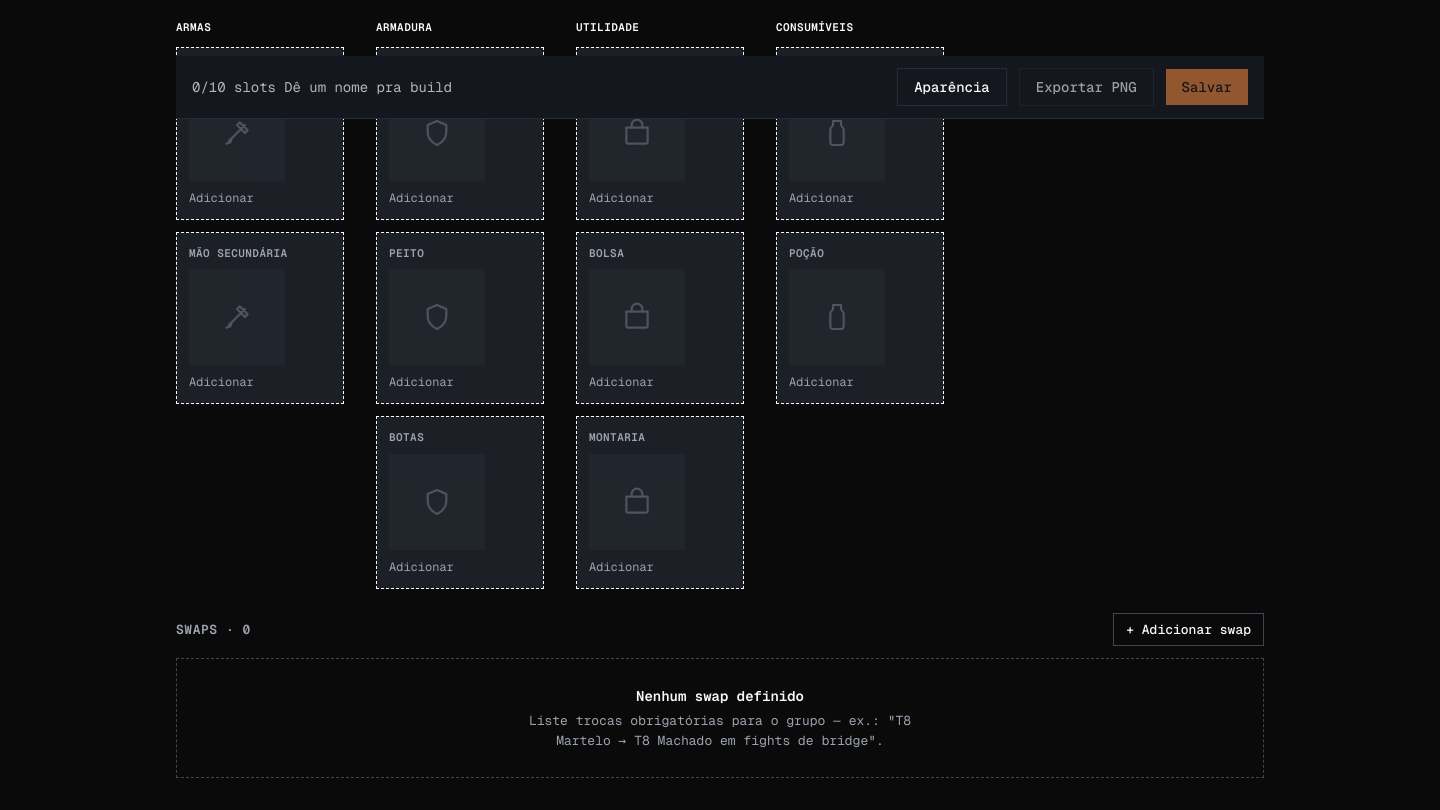
Test: /build/new — Swaps section (ACM-012, RF-3) › picking an item for a swap through the real ItemPicker writes it into the swap's slot
(page scrolled)
Click the button "+ Adicionar swap" at coordinates (1189, 629), box [1113,612,1264,646]
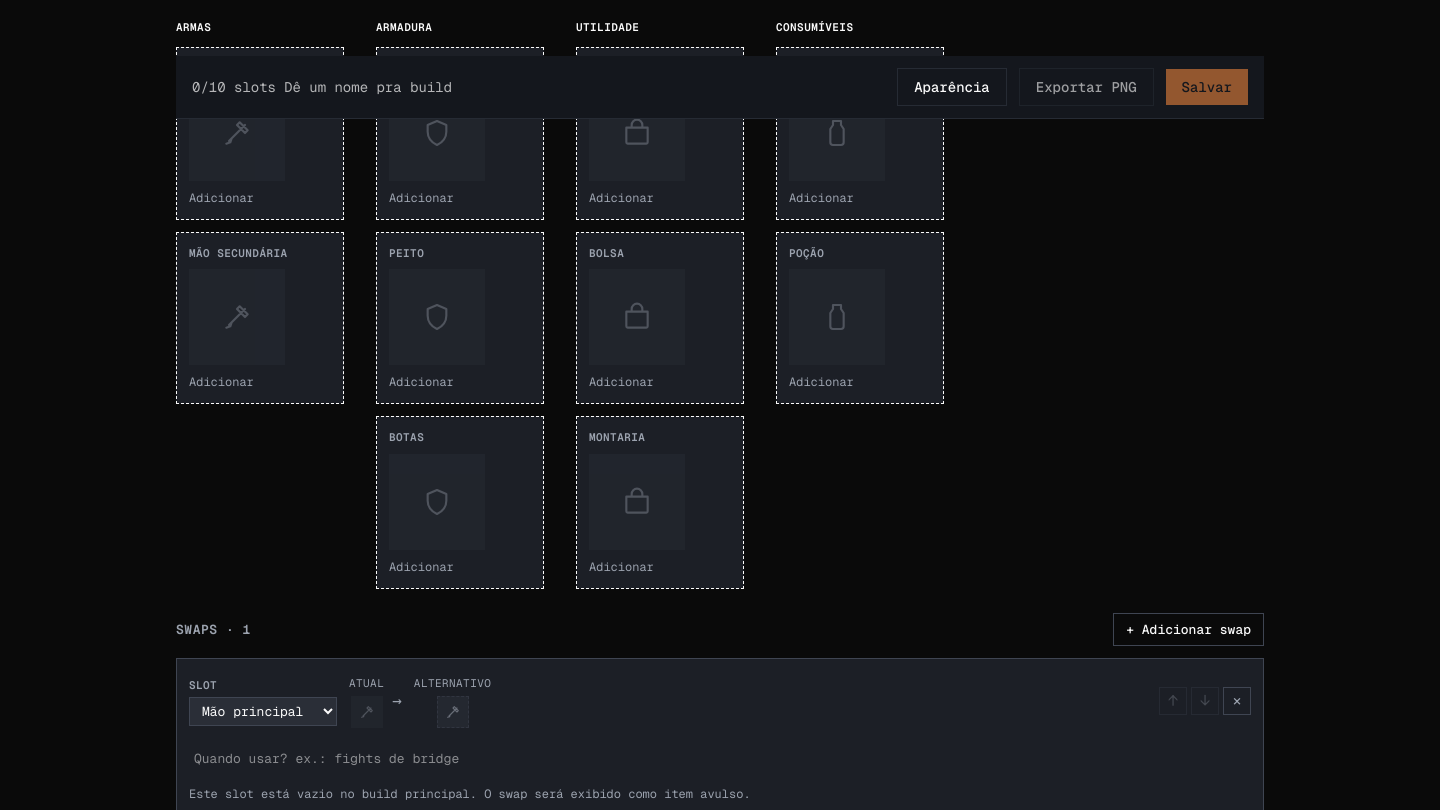
Select "Cabeça" in the dropdown named "Slot do swap 1" at coordinates (263, 712), box [189,697,337,726]
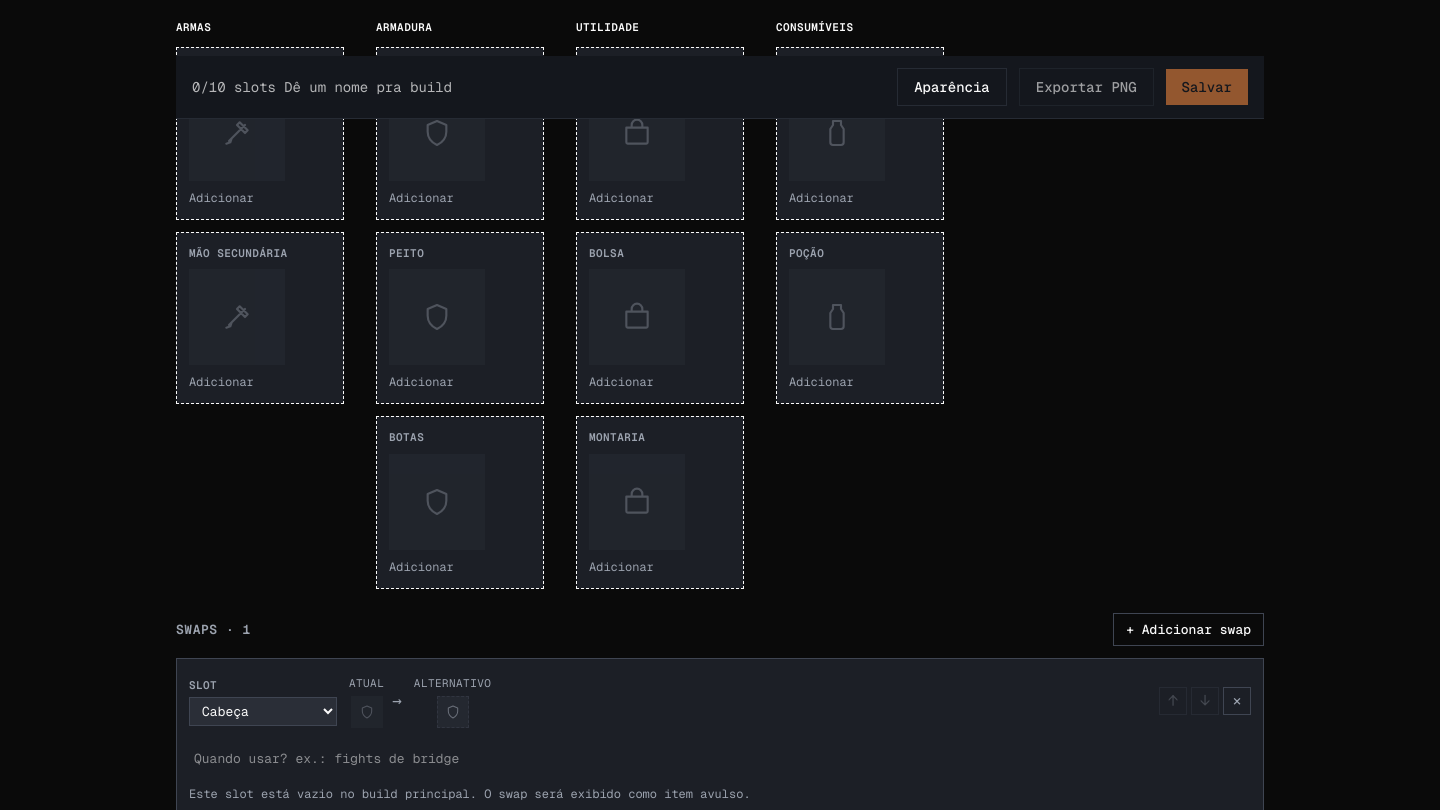
Click the button with aria-label "Escolher item alternativo" at coordinates (453, 701), box [410,671,495,732]
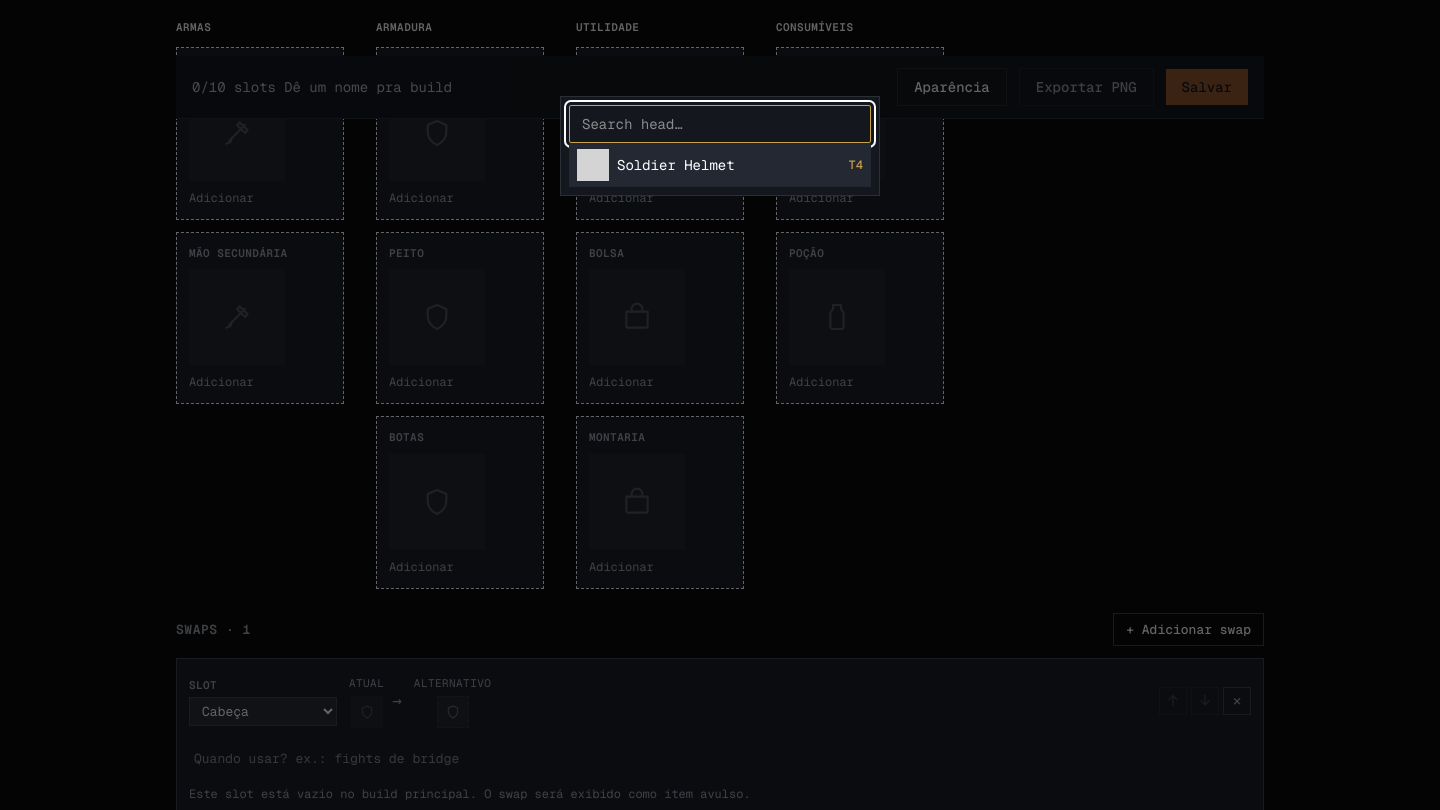
Now the dialog is shown, box [560,96,880,196]
Click the text "Soldier Helmet" at coordinates (676, 165), box [617,156,735,174]
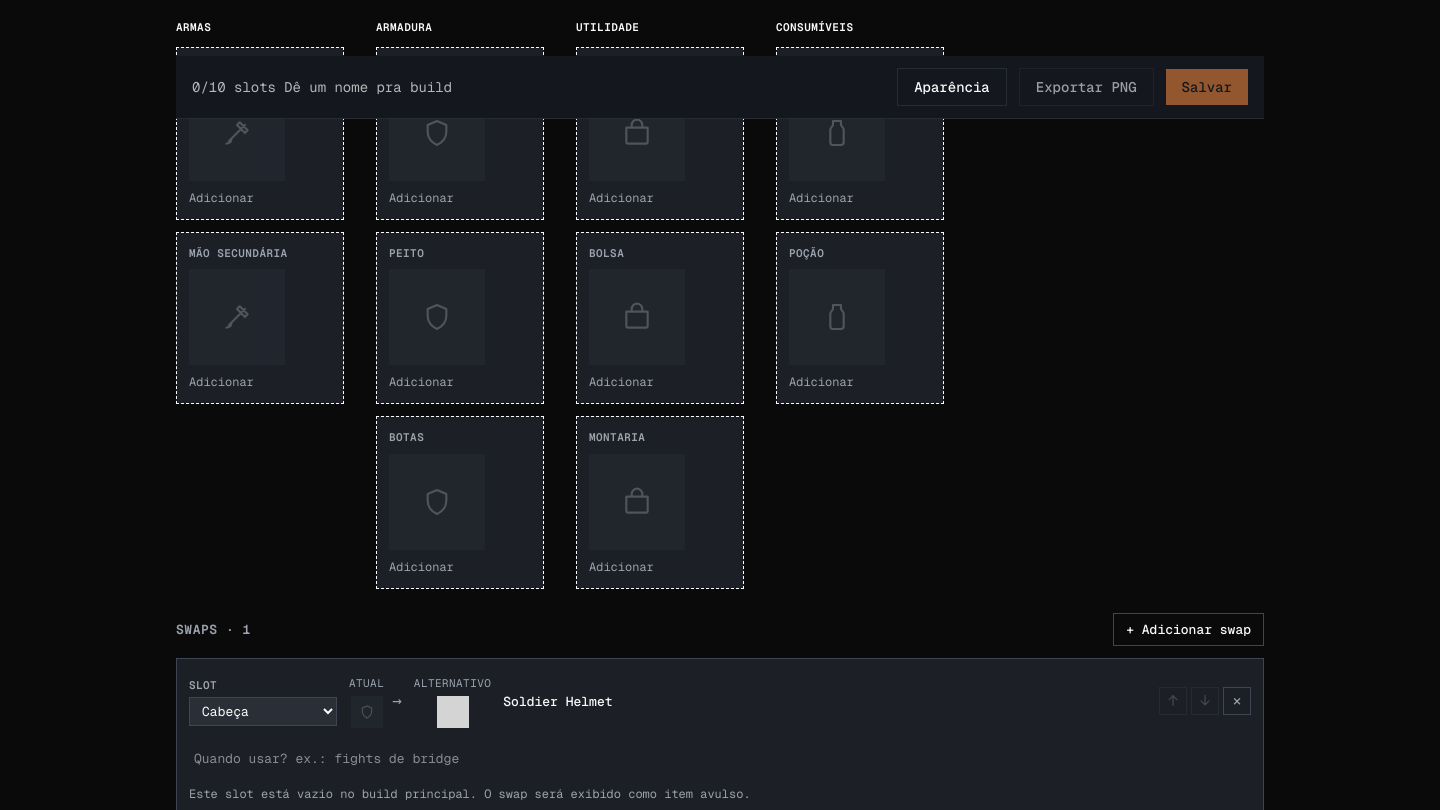
Now the dialog is gone
